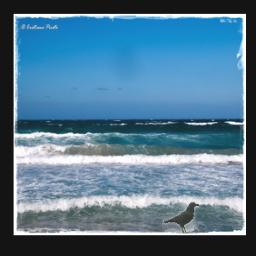Crow: (162, 202, 199, 234)
